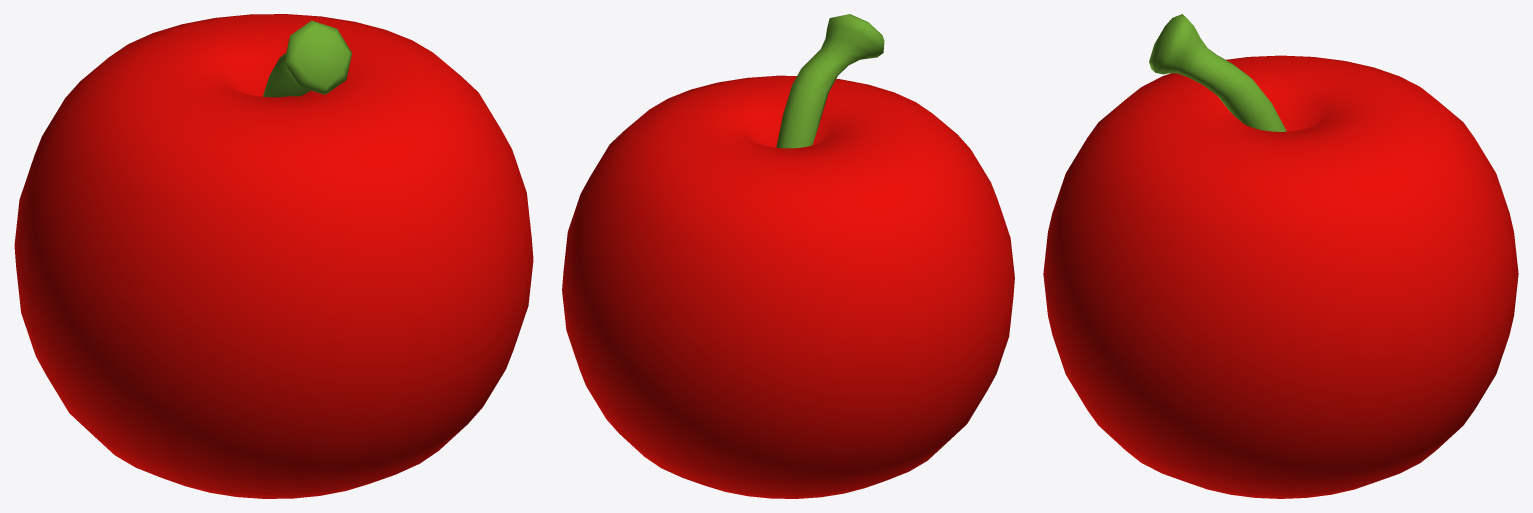
File: vegi3.fbx
3 renders of one model, left to right at view 1: azimuth 30°, elevation 25°; view 2: azimuth 150°, elevation 25°; view 3: azimuth 270°, elevation 25°, orthographic. The views are drawn at different scales.
Parts seen in each view (by area): view 1: Sphere.001; view 2: Sphere.001; view 3: Sphere.001.
Part boxes in pixels (x1,y1,x2,y2): Sphere.001: (14,14,533,498); Sphere.001: (562,14,1014,498); Sphere.001: (1043,14,1518,498).
Bounding box in the file's own units: 200 × 202 × 200.
